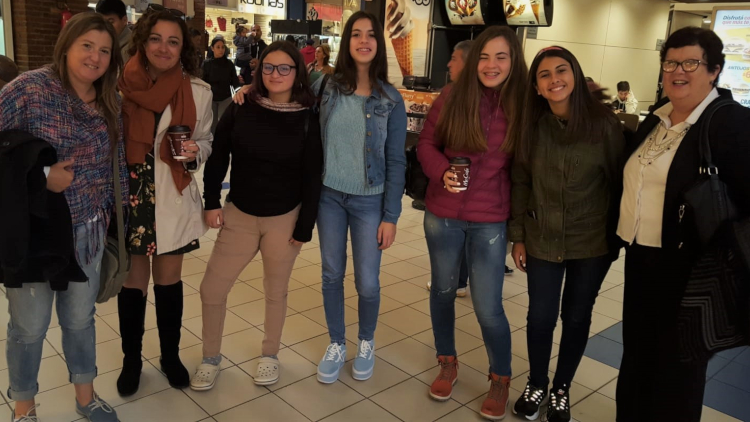person: (620, 16, 737, 243), (504, 20, 613, 206), (422, 26, 532, 203), (299, 14, 416, 180), (221, 47, 324, 223), (18, 8, 138, 159), (118, 17, 203, 141)
